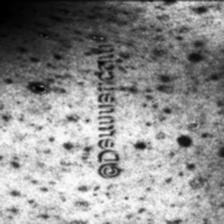Non-Cancerous Skin Condition: (130, 0, 224, 224), (0, 10, 92, 224)
